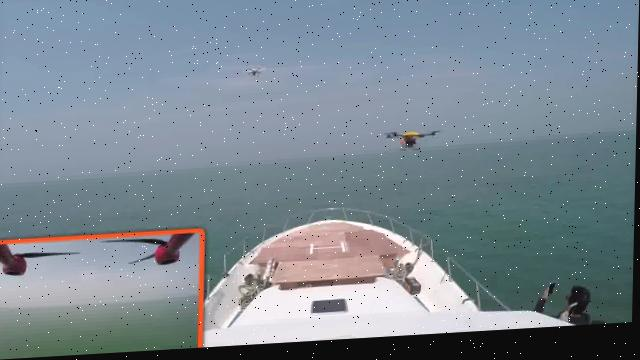drone: (380, 127, 442, 164), (236, 63, 273, 85)
